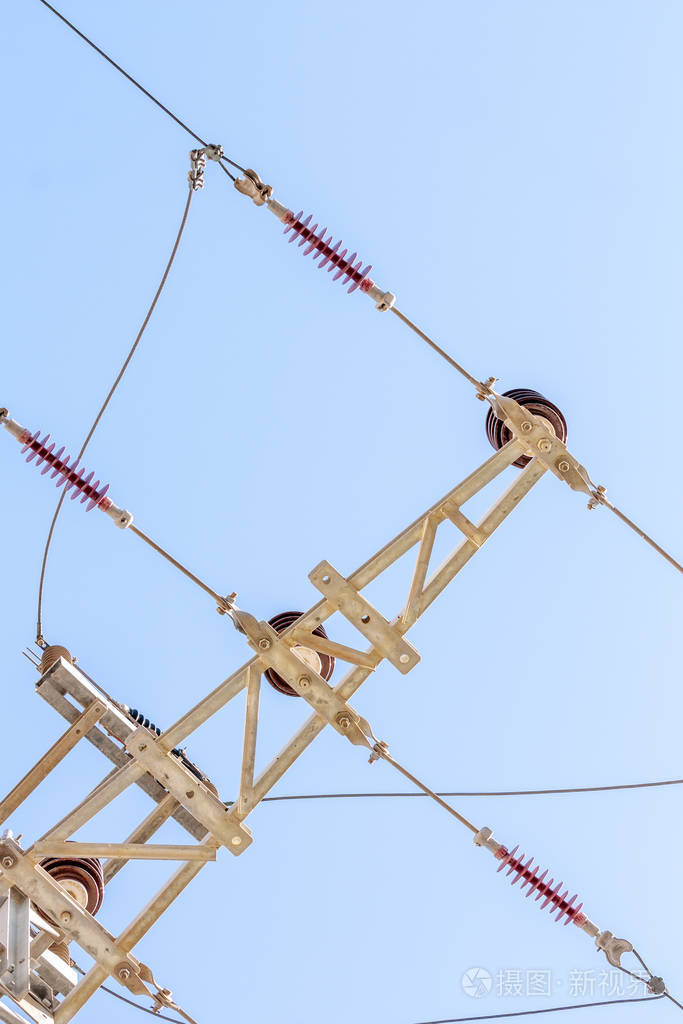insulator: (285, 210, 375, 297), (17, 432, 110, 509), (499, 841, 582, 926)
